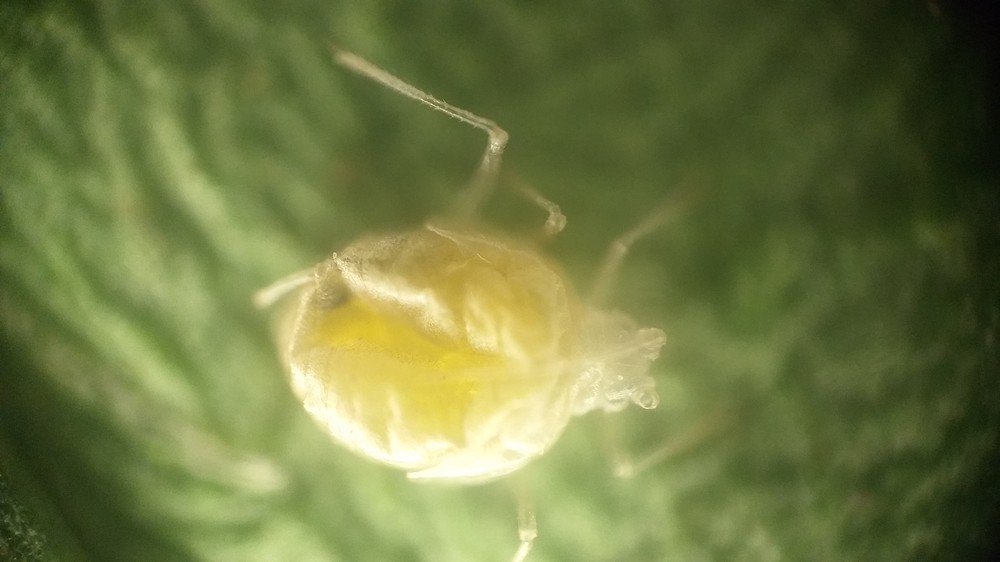Pulgon: (228, 34, 781, 556)
